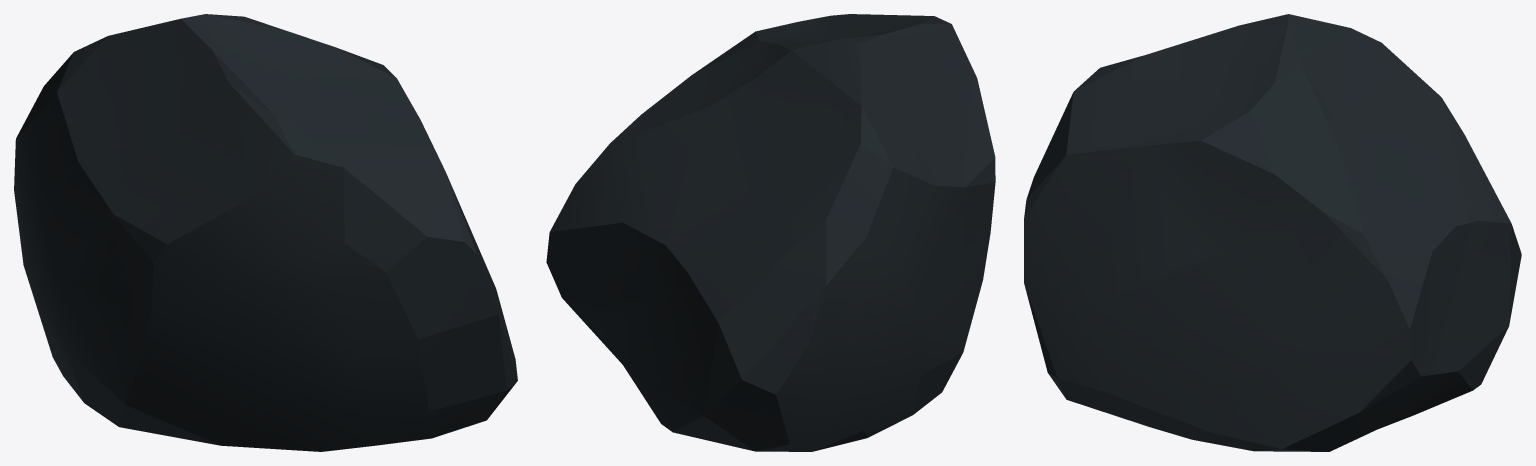
The model's file is Asteroid_s_32.FBX.
3 views of the same model, side by side, from view 1: azimuth 30°, elevation 25°; view 2: azimuth 150°, elevation 25°; view 3: azimuth 270°, elevation 25° (orthographic). The views are drawn at different scales.
Visible parts, largest first — view 1: Asteroid_s_32; view 2: Asteroid_s_32; view 3: Asteroid_s_32.
Part boxes in pixels (<box>): Asteroid_s_32: <box>14,14,517,451</box>; Asteroid_s_32: <box>546,14,995,451</box>; Asteroid_s_32: <box>1024,14,1521,451</box>.
Bounding box in the file's own units: 143 × 136 × 182.
